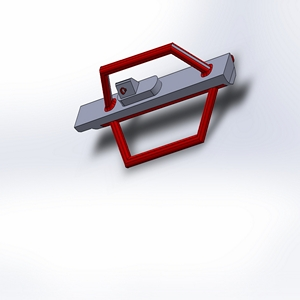submarine: (64, 38, 251, 179)
